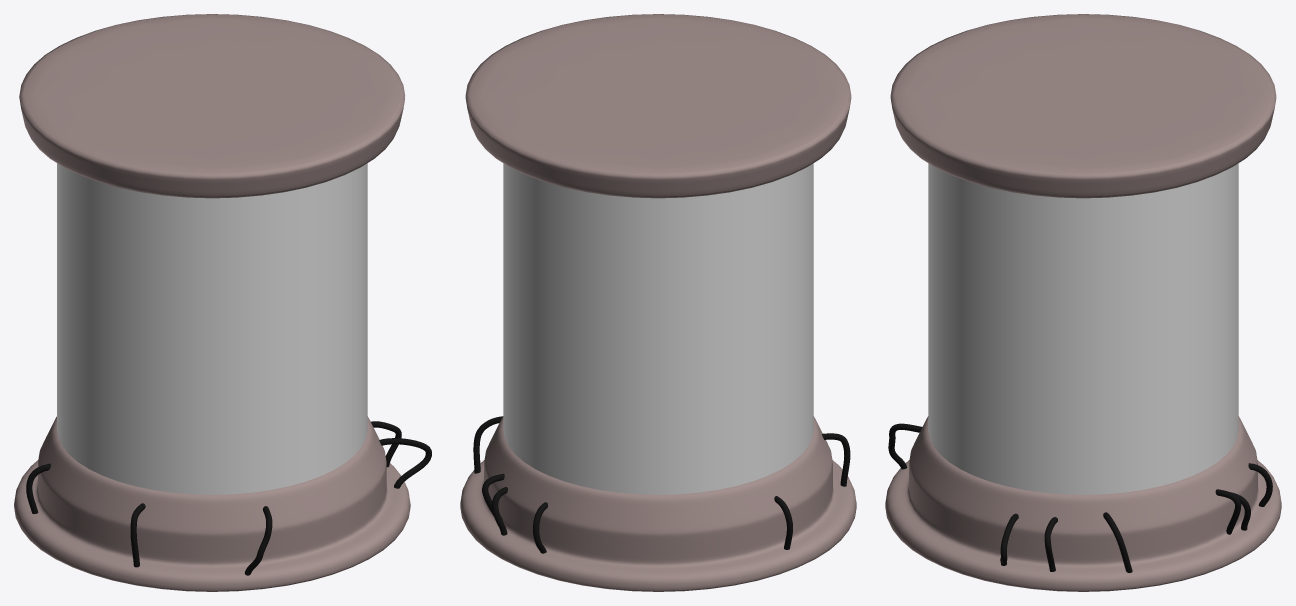
File: brain.fbx
The picture shows the model from 3 angles, left to right: view 1: azimuth 30°, elevation 25°; view 2: azimuth 150°, elevation 25°; view 3: azimuth 270°, elevation 25°; orthographic projection.
Parts seen in each view (by area): view 1: Cylinder, Circle.001, Circle, BezierCurve.001; view 2: Cylinder, Circle.001, Circle, BezierCurve.001; view 3: Cylinder, Circle.001, Circle, BezierCurve.001.
Part boxes in pixels (x1,y1,x2,y2): Cylinder: (57,163,367,494); Circle.001: (19,14,405,198); Circle: (14,416,410,591); BezierCurve.001: (26,421,431,575); Cylinder: (503,163,813,494); Circle.001: (465,14,851,198); Circle: (460,416,856,591); BezierCurve.001: (473,416,850,553); Cylinder: (928,163,1238,494); Circle.001: (890,14,1276,198); Circle: (885,416,1281,591); BezierCurve.001: (888,423,1272,572).
Size of the model in its own units: 1027 by 1171 by 1005.
